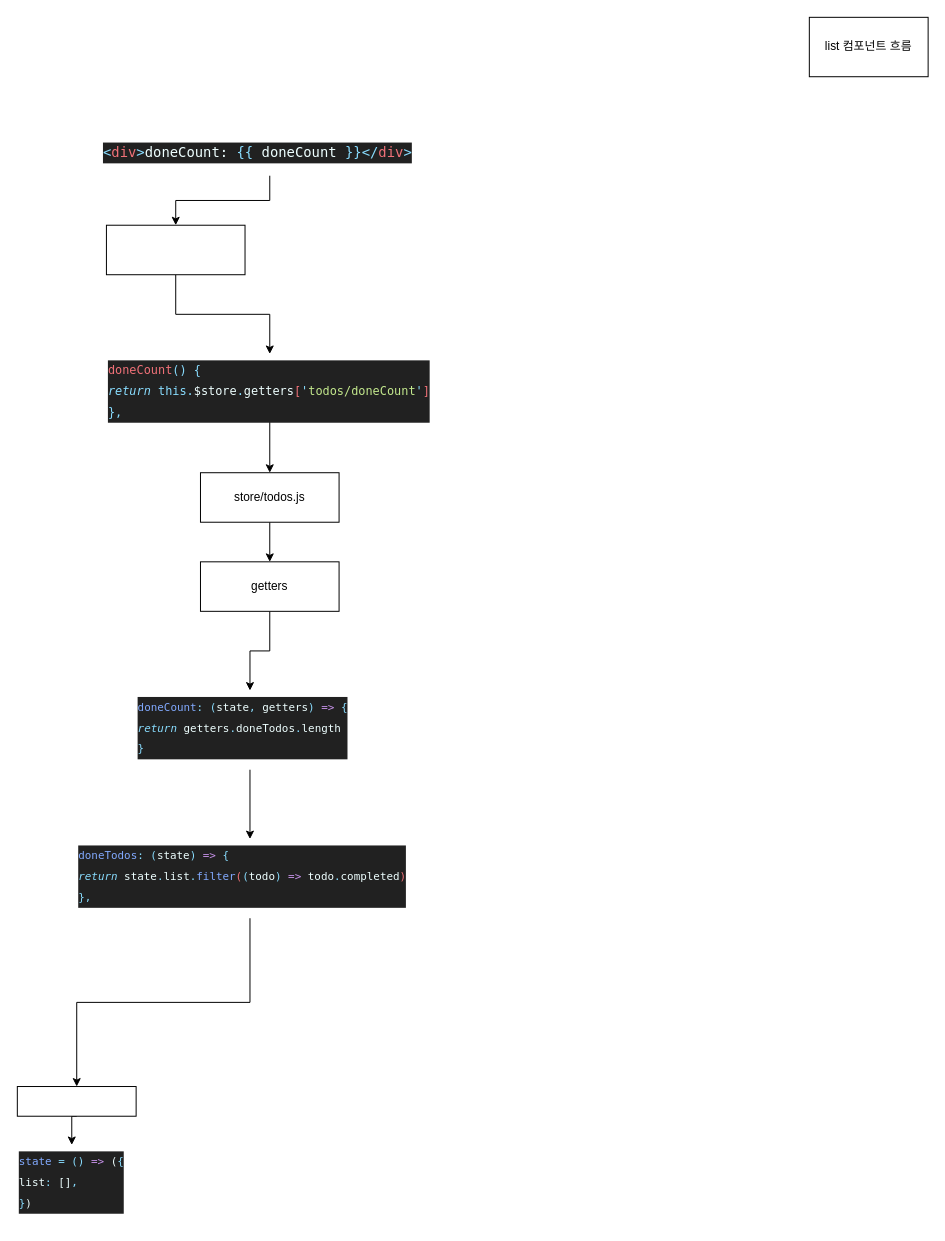
This 945x1241 diagram has some shape labels left out. The shapes that lost their labels are listed below. From the top down, each one's centre as x and y in pixels, then its label:
At (175,249): "computed".
At (76,1101): "state/list".
